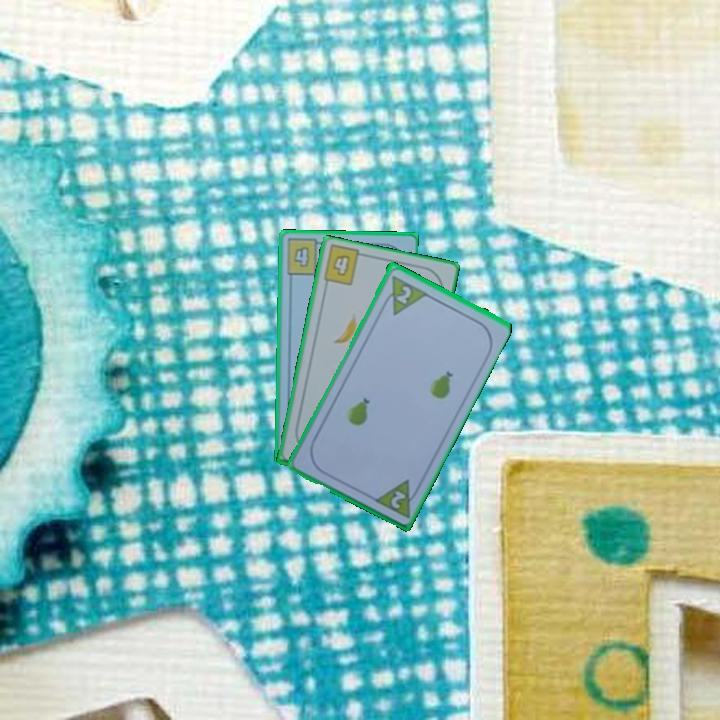2p: (369, 475, 423, 520), (392, 281, 415, 307)
4b: (283, 237, 327, 278), (329, 251, 352, 279)
